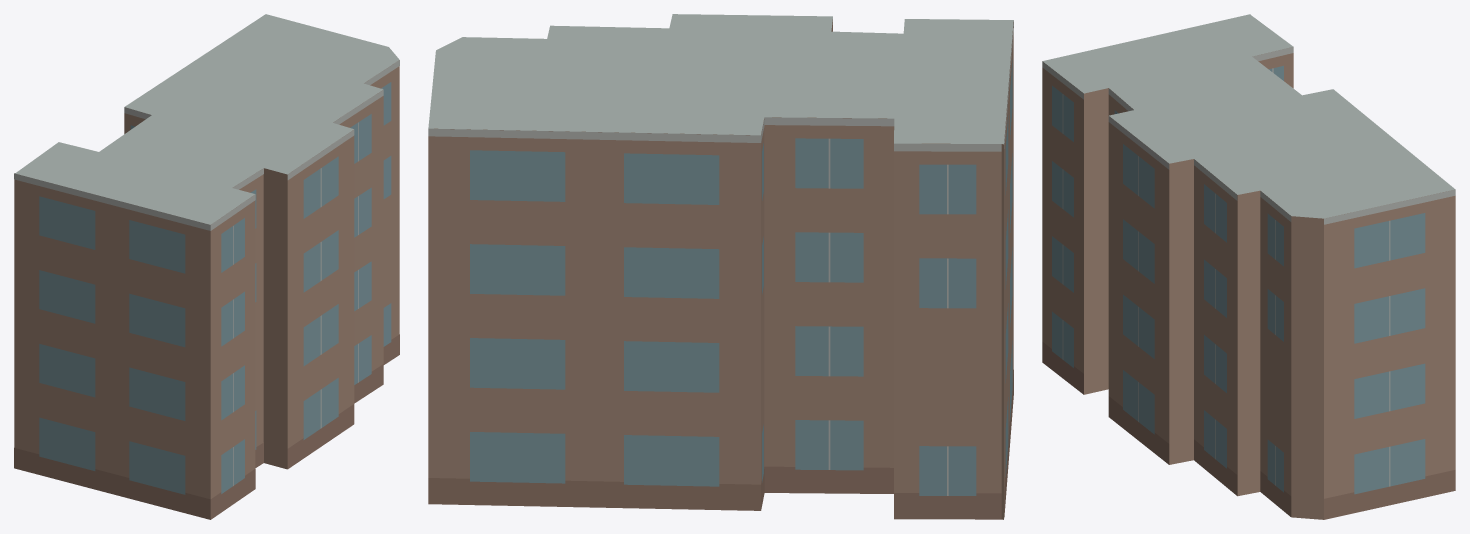
The model's file is survey-upis-32880501.glb.
3 renders of one model, left to right at view 1: azimuth 30°, elevation 25°; view 2: azimuth 150°, elevation 25°; view 3: azimuth 270°, elevation 25°, orthographic. The views are drawn at different scales.
Visible parts, largest first — view 1: survey-upis-32880501.tmp; view 2: survey-upis-32880501.tmp; view 3: survey-upis-32880501.tmp.
Boxes of the visible parts, bbox=[...] form: survey-upis-32880501.tmp: bbox=[14, 14, 399, 519]; survey-upis-32880501.tmp: bbox=[428, 14, 1013, 519]; survey-upis-32880501.tmp: bbox=[1042, 14, 1455, 519].
Size of the model in its own units: 17.19 by 11.8 by 14.68.
